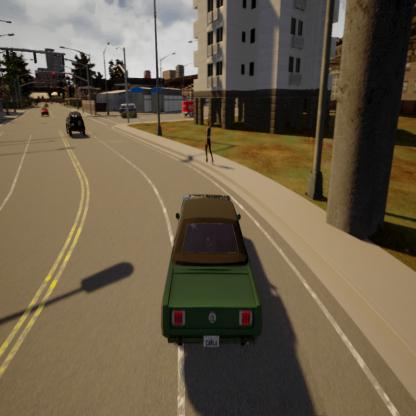Cars: (149, 186, 268, 354), (64, 108, 87, 140), (118, 102, 137, 120), (183, 100, 196, 122), (40, 106, 50, 119)
Pedestrian: (203, 119, 217, 168)
